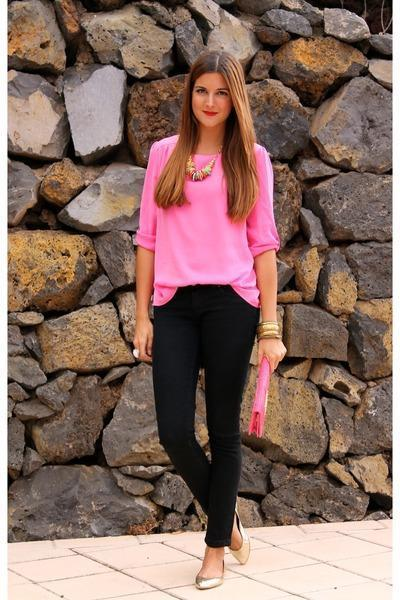pants: (145, 284, 276, 549)
shirt: (133, 135, 276, 305)
shoe: (204, 571, 229, 599)
